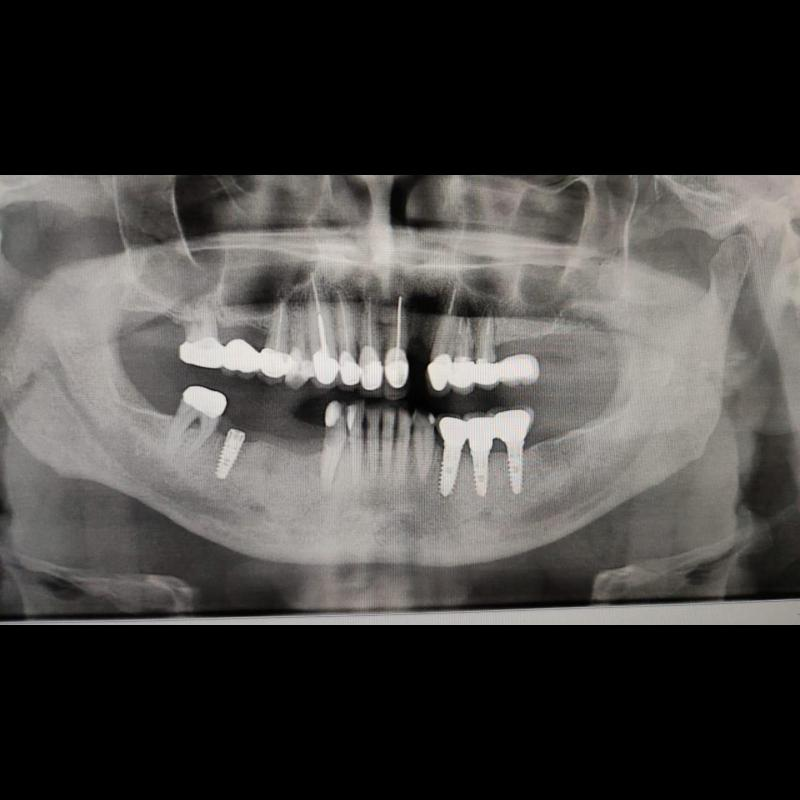MIS: (214, 427, 246, 481), (436, 446, 462, 498), (504, 448, 526, 496), (471, 453, 491, 497)
